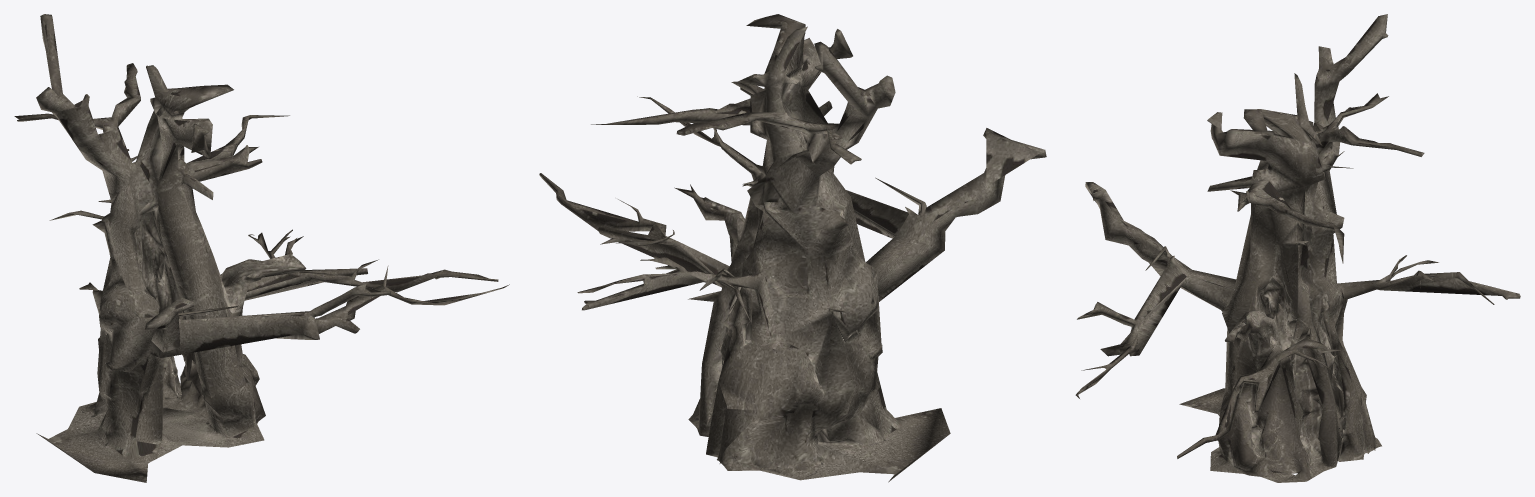
The model's file is tree_oak_old.glb.
3 views of the same model, side by side, from view 1: azimuth 30°, elevation 25°; view 2: azimuth 150°, elevation 25°; view 3: azimuth 270°, elevation 25° (orthographic). The views are drawn at different scales.
Visible parts, largest first — view 1: tree_oak_old; view 2: tree_oak_old; view 3: tree_oak_old.
Boxes of the visible parts, x1,y1,x2,y2 form: tree_oak_old: (14, 14, 509, 482); tree_oak_old: (539, 14, 1046, 482); tree_oak_old: (1075, 14, 1520, 482).
Bounding box in the file's own units: 8.94 × 8.44 × 8.69.
Materials: 1 (1 with a texture image).
